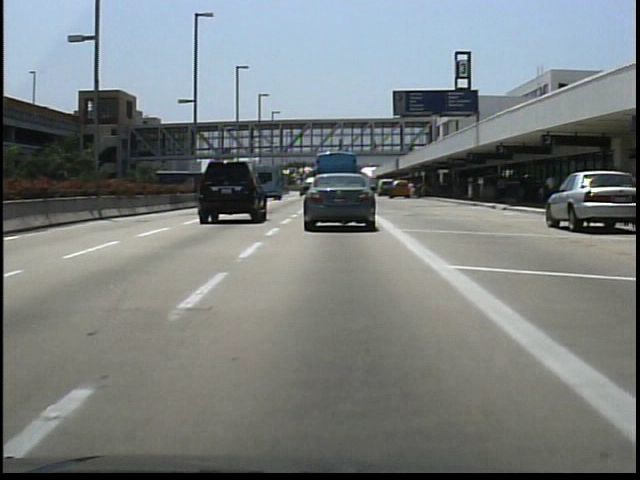person: (541, 169, 560, 210), (492, 174, 510, 208), (404, 178, 420, 205), (368, 137, 381, 158), (334, 136, 347, 156)
